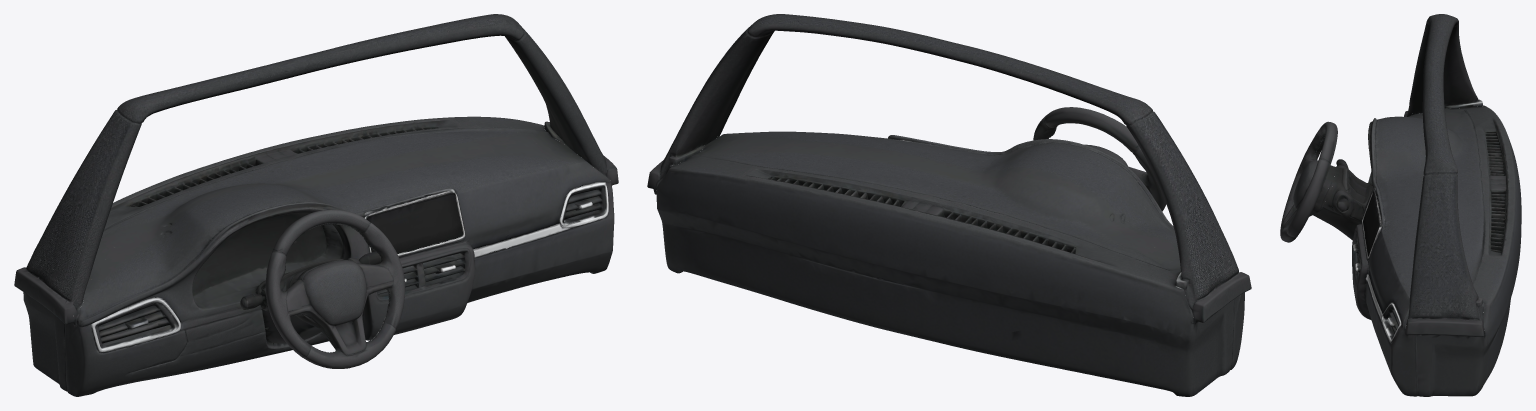
File: cabin.glb
3 renders of one model, left to right at view 1: azimuth 30°, elevation 25°; view 2: azimuth 150°, elevation 25°; view 3: azimuth 270°, elevation 25°, orthographic. The views are drawn at different scales.
Parts seen in each view (by area): view 1: tripo_part_0, tripo_part_1, tripo_part_3; view 2: tripo_part_0, tripo_part_1, tripo_part_3; view 3: tripo_part_0, tripo_part_1, tripo_part_3.
Part boxes in pixels (box(x1,y1,x2,y2)): tripo_part_0: box(23, 116, 614, 396); tripo_part_1: box(14, 14, 618, 326); tripo_part_3: box(265, 209, 405, 368); tripo_part_0: box(654, 131, 1244, 396); tripo_part_1: box(647, 14, 1251, 323); tripo_part_3: box(1033, 107, 1166, 211); tripo_part_0: box(1313, 105, 1521, 396); tripo_part_1: box(1404, 14, 1486, 337); tripo_part_3: box(1280, 121, 1337, 242).
Bounding box in the file's own units: 1.45 × 0.6693 × 0.679.
Materials: 1 (1 with a texture image).
